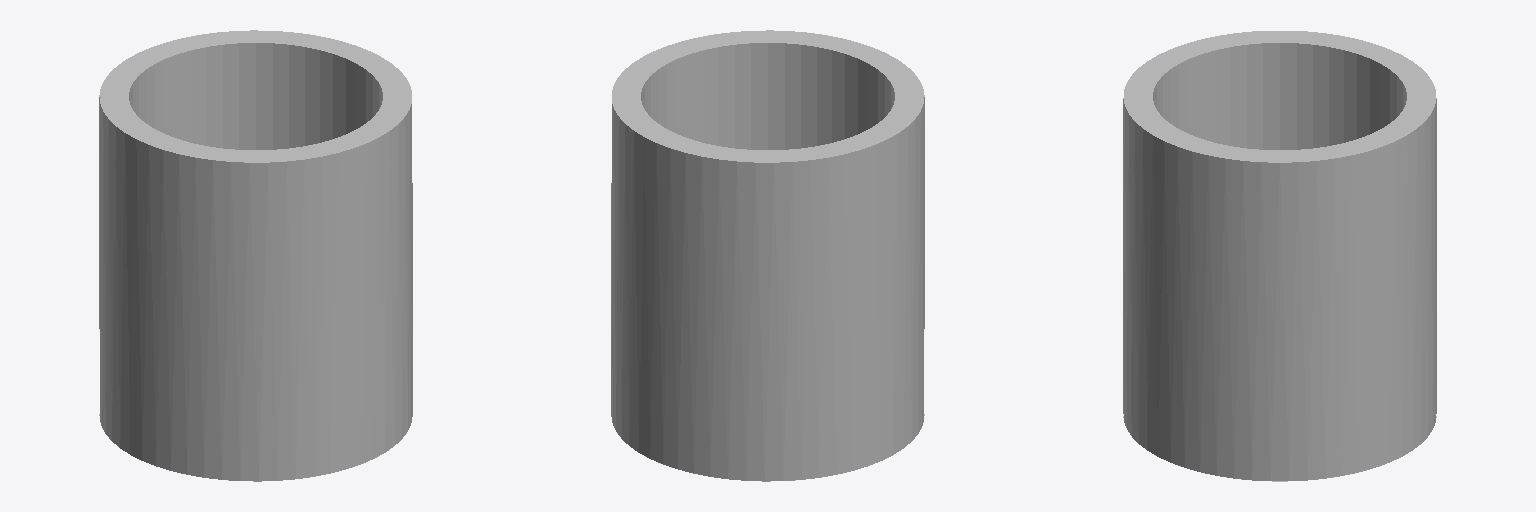
Rendered from TestFlask.obj.
3 renders of one model, left to right at view 1: azimuth 30°, elevation 25°; view 2: azimuth 150°, elevation 25°; view 3: azimuth 270°, elevation 25°, orthographic.
Visible parts, largest first — view 1: Solid1; view 2: Solid1; view 3: Solid1.
Boxes of the visible parts, x1,y1,x2,y2 form: Solid1: [99, 30, 412, 481]; Solid1: [611, 30, 924, 481]; Solid1: [1123, 31, 1436, 481].
Bounding box in the file's own units: 0.3562 × 0.4 × 0.3561.